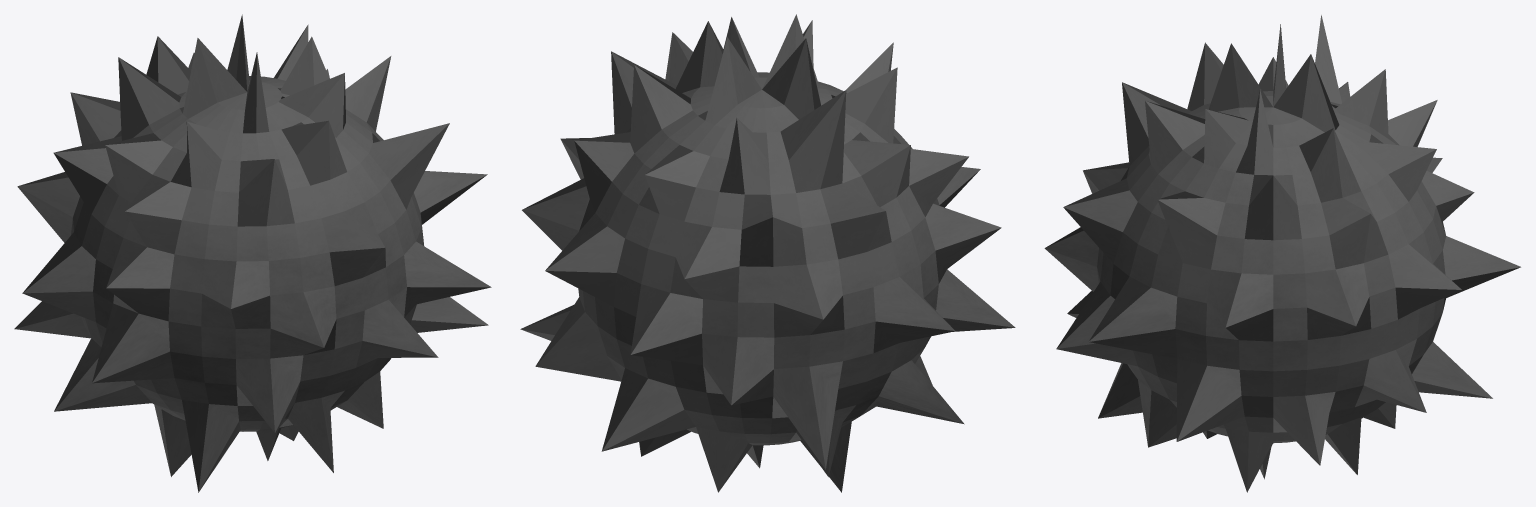
Rendered from PlayerBullet.obj.
The picture shows the model from 3 angles, left to right: view 1: azimuth 30°, elevation 25°; view 2: azimuth 150°, elevation 25°; view 3: azimuth 270°, elevation 25°; orthographic projection. The views are drawn at different scales.
Parts seen in each view (by area): view 1: 球; view 2: 球; view 3: 球.
Part boxes in pixels (x1,y1,x2,y2): 球: [14, 14, 491, 492]; 球: [520, 14, 1015, 492]; 球: [1044, 15, 1520, 492].
Size of the model in its own units: 2.73 by 2.66 by 2.71.
Materials: 1 (1 with a texture image).
